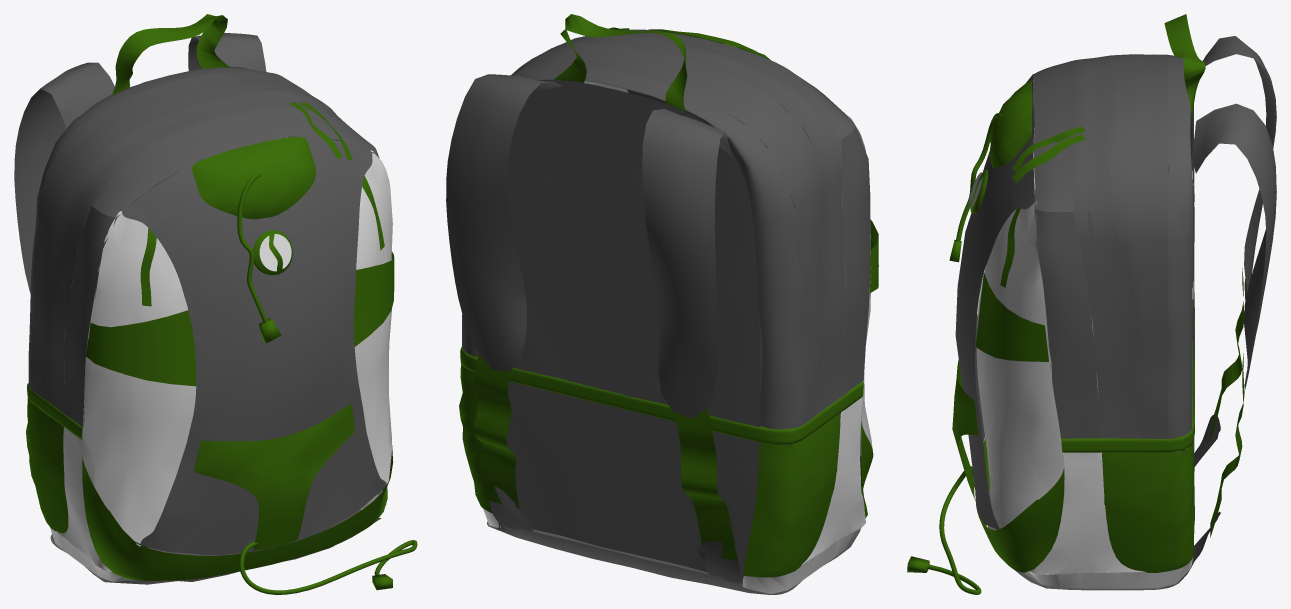
File: backpack.dae
3 views of the same model, side by side, from view 1: azimuth 30°, elevation 25°; view 2: azimuth 150°, elevation 25°; view 3: azimuth 270°, elevation 25° (orthographic). The views are drawn at different scales.
Parts seen in each view (by area): view 1: Component_3 (×6), Component_4 (×12), Component_2 (×4); view 2: Component_3 (×9), Component_4 (×8), Component_2 (×3); view 3: Component_3 (×8), Component_4 (×14), Component_2 (×3).
Boxes of the visible parts, x1,y1,x2,y2 form: Component_3 (×6): (14,33,386,584); Component_4 (×12): (26,14,417,594); Component_2 (×4): (50,150,392,581); Component_3 (×9): (446,29,870,594); Component_4 (×8): (459,14,878,577); Component_2 (×3): (742,116,872,594); Component_3 (×8): (955,36,1276,590); Component_4 (×14): (927,14,1244,594); Component_2 (×3): (976,201,1192,588).
Size of the model in its own units: 11.78 by 12.09 by 18.02.
